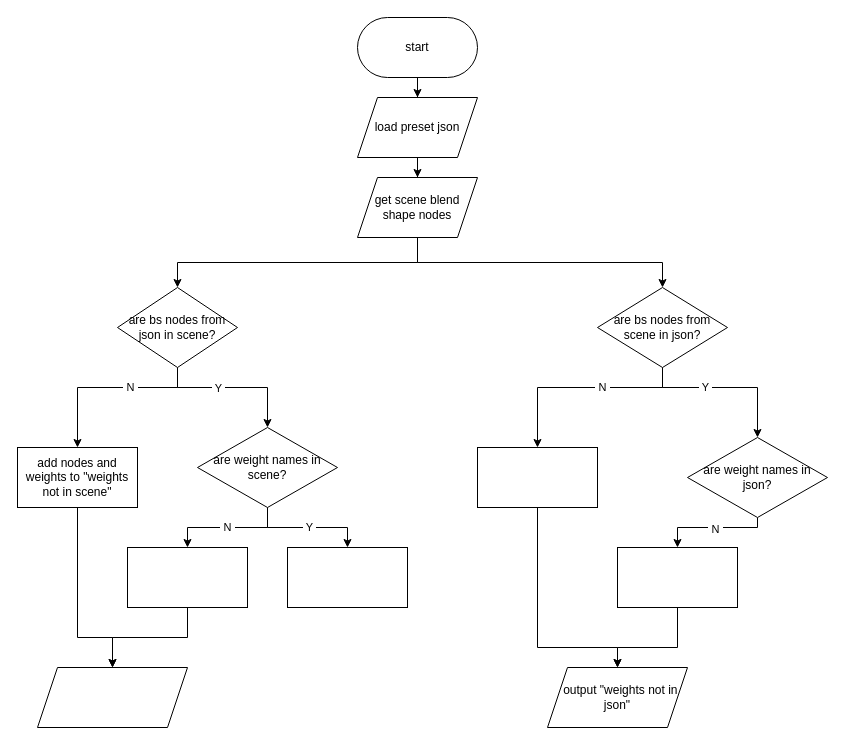
Image size: 845x745. Some labels were removed from this diagram. Here are the shapes that lost their labels. From the top down, the centre of each, then its label:
point (537, 477): add nodes to "weight not in json"
point (187, 577): add weights to "weights not in scene"
point (347, 577): apply weights to scene
point (677, 577): add weights to "weights not in json"
point (112, 697): output "weights not in scene"
